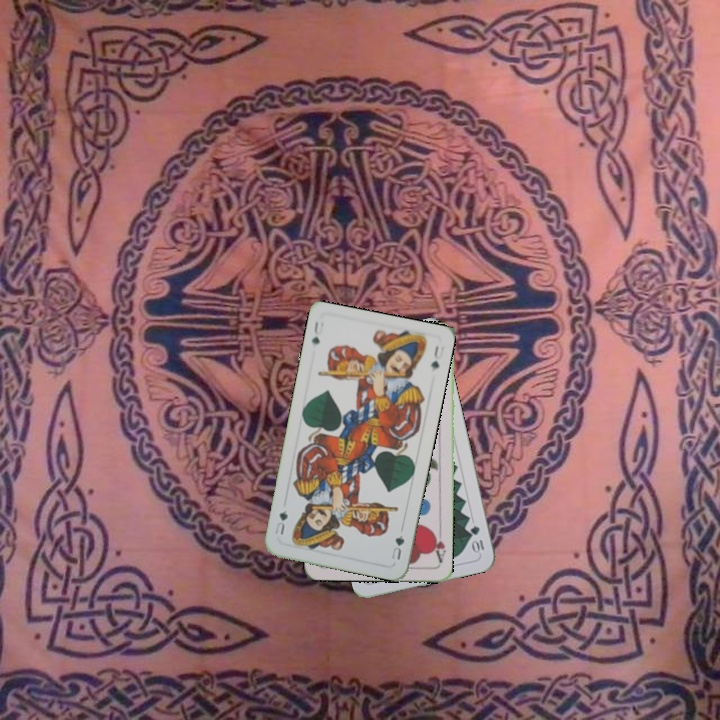G10: (466, 521, 487, 556)
GU: (388, 531, 407, 562), (308, 316, 322, 347)
HA: (428, 526, 448, 566)
